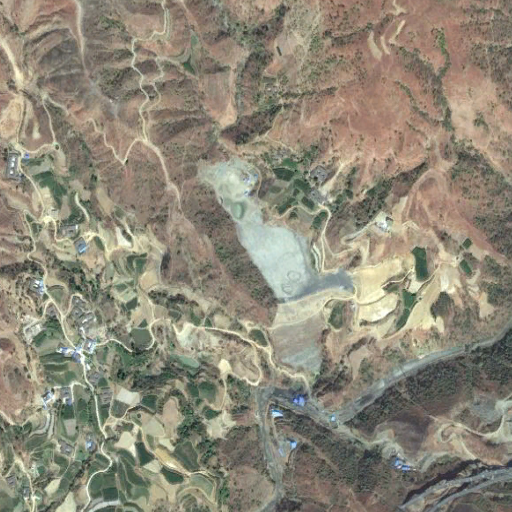tp: (200, 156, 356, 384)
